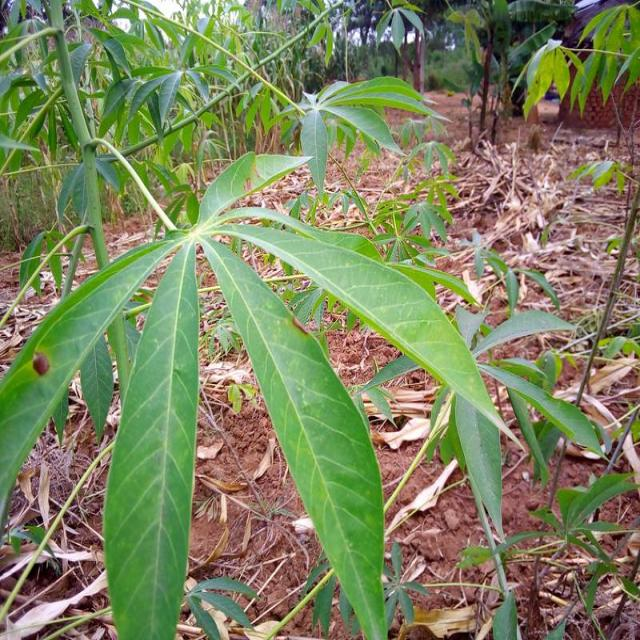cassava leaf: (198, 229, 390, 638), (103, 236, 202, 638)
